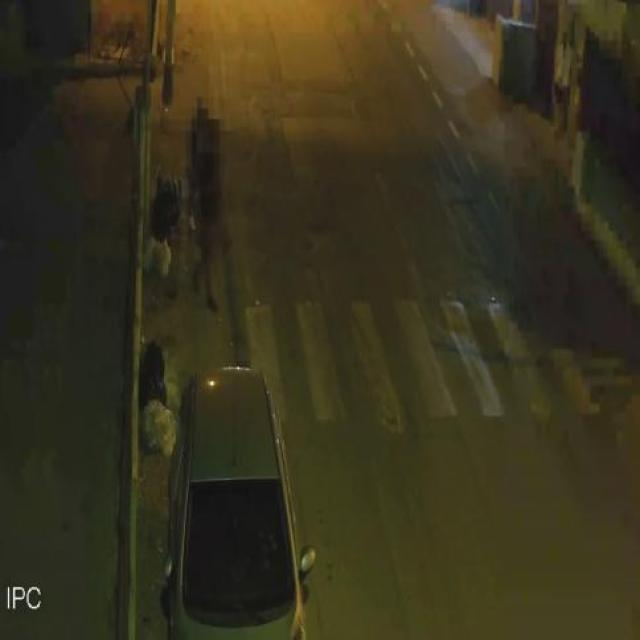Anorganik: (139, 346, 177, 419), (143, 230, 179, 281), (144, 398, 179, 449)
